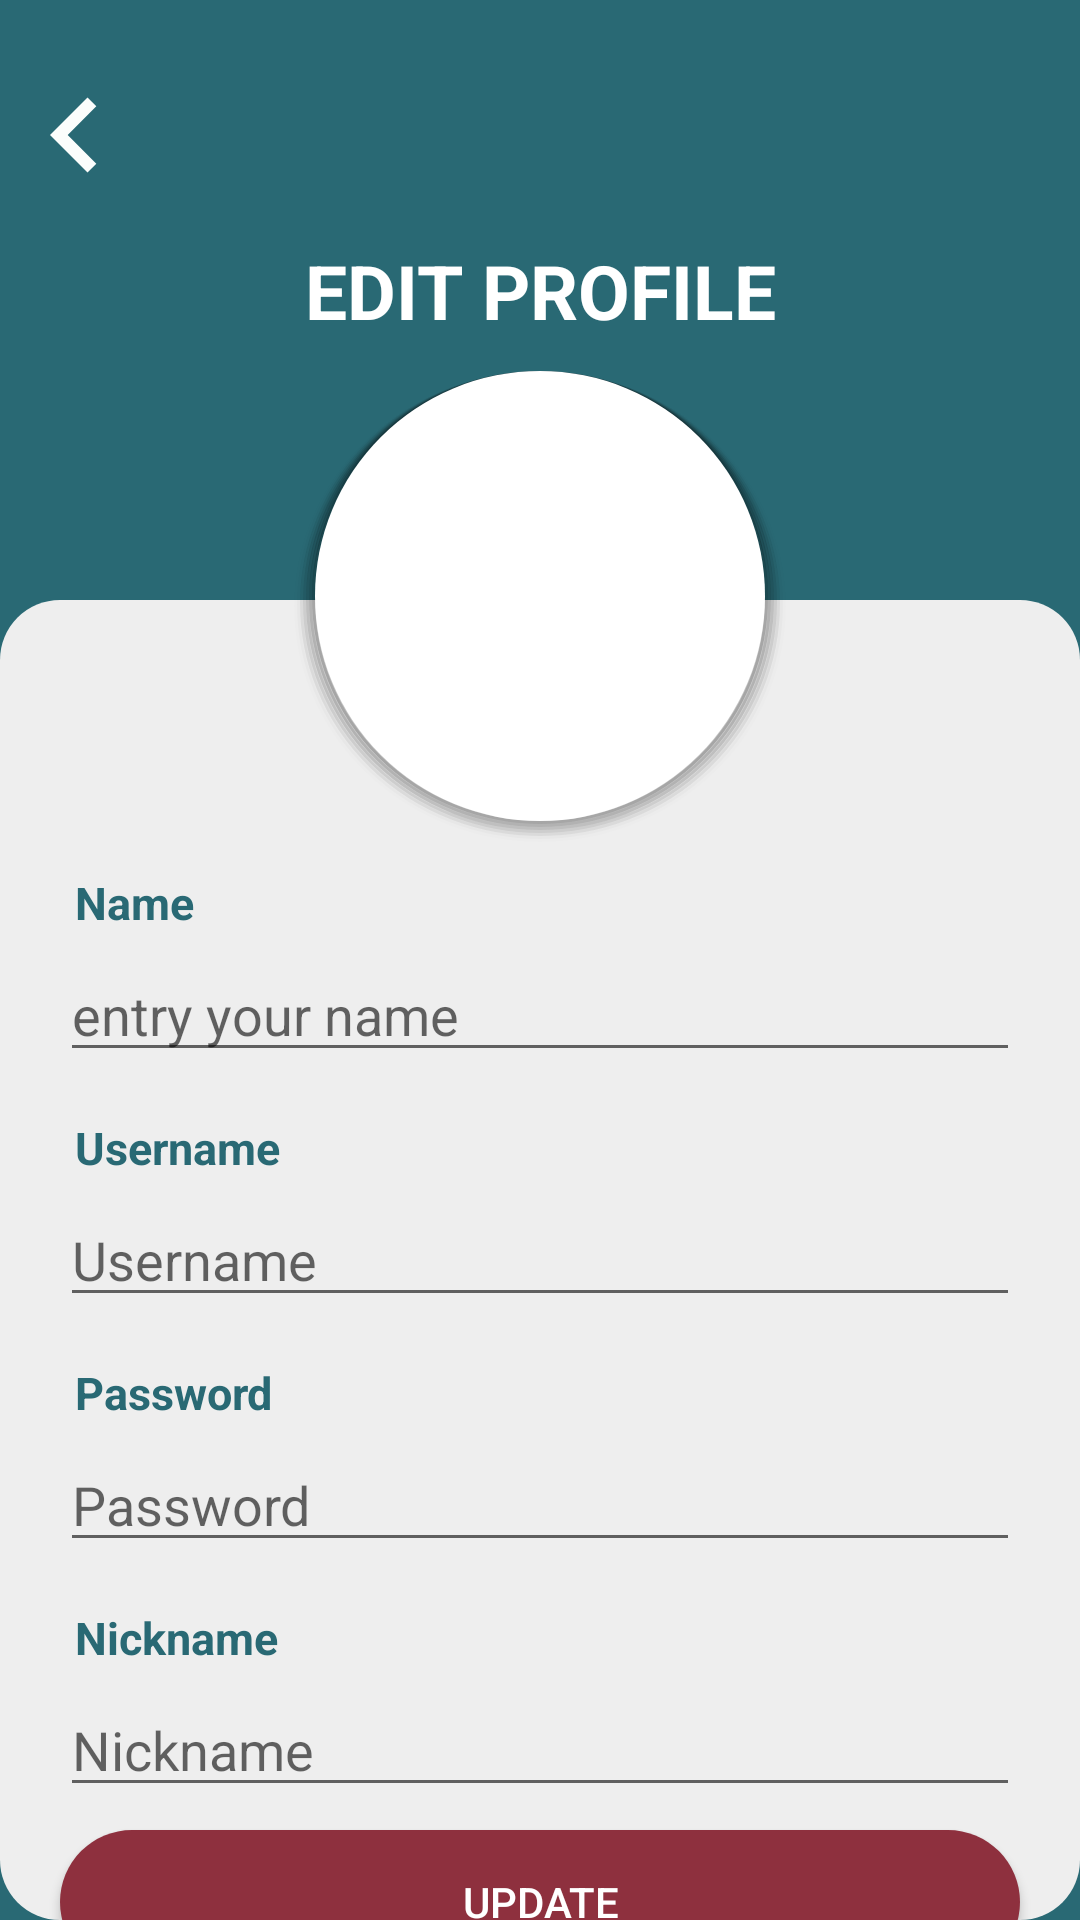

Screen size 1080×1920. Icon name, then its center in pixels as (x=x, y=y):
back: (x=73, y=135)
